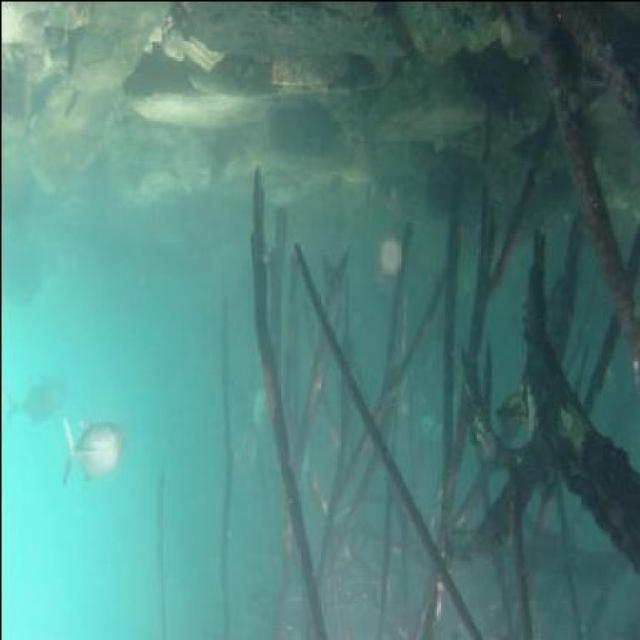Caranx_sexfasciatus_juvenile: (61, 416, 127, 492), (5, 370, 61, 432), (232, 429, 258, 483), (248, 375, 269, 440)
